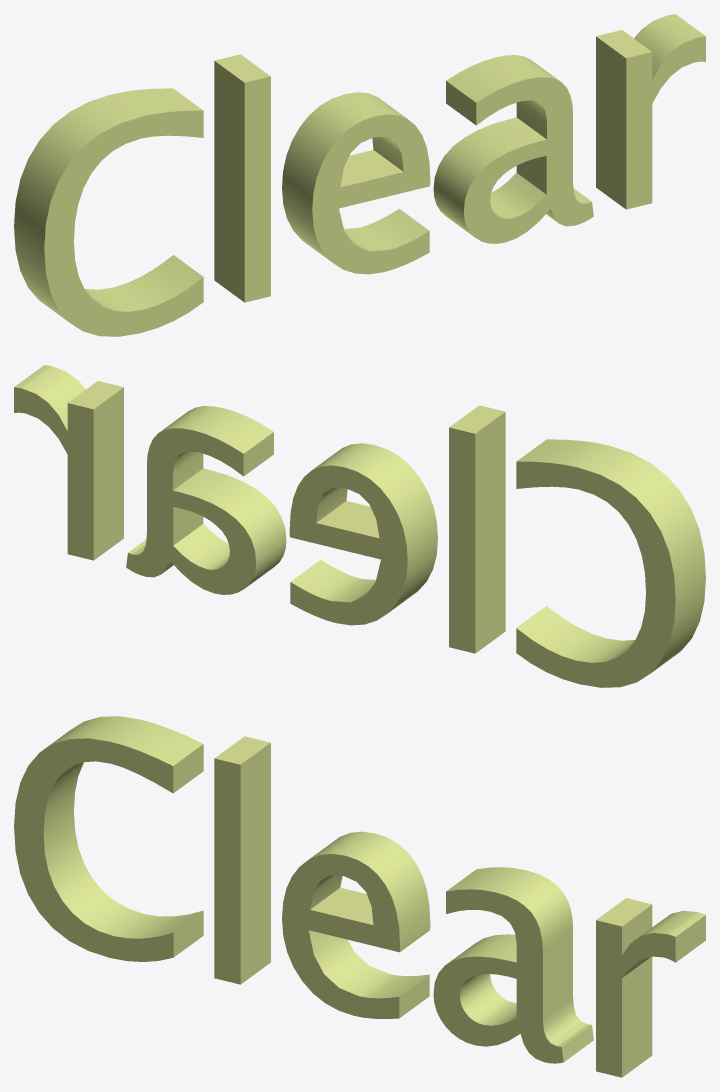
Rendered from Clear.fbx.
3 views of the same model, one above another, from view 1: azimuth 30°, elevation 25°; view 2: azimuth 150°, elevation 25°; view 3: azimuth 330°, elevation 25° (orthographic).
Visible parts, largest first — view 1: typeMesh1; view 2: typeMesh1; view 3: typeMesh1.
Boxes of the visible parts, x1,y1,x2,y2 form: typeMesh1: (14, 14, 705, 336); typeMesh1: (14, 365, 705, 687); typeMesh1: (14, 716, 705, 1077).
Bounding box in the file's own units: 31.54 × 10.25 × 2.5.
